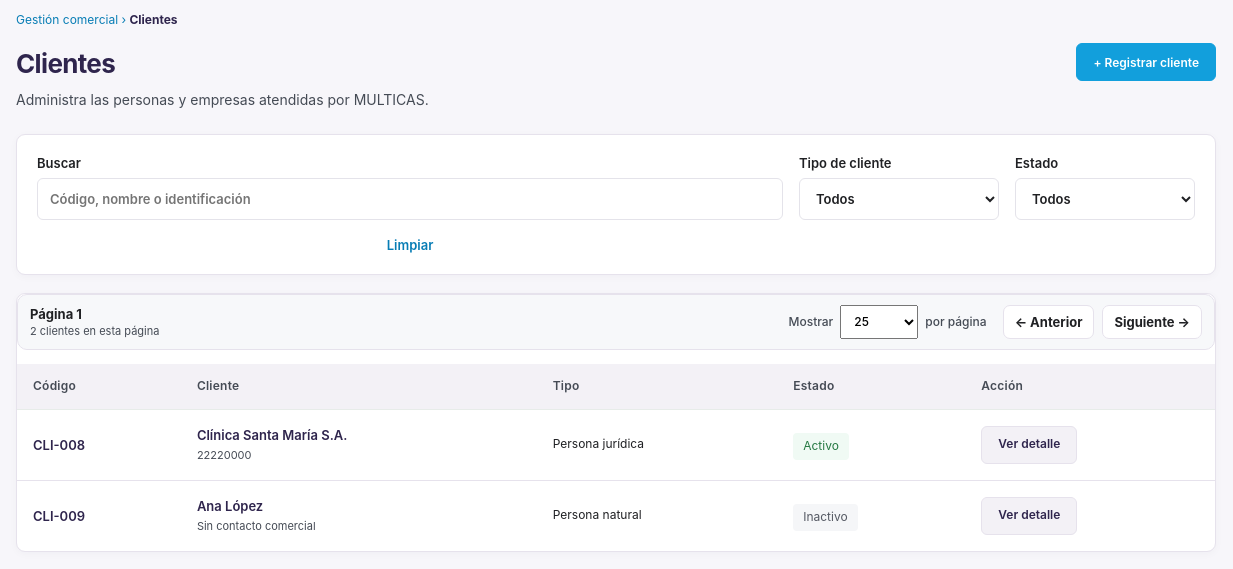
Test: Clientes y ubicaciones en TrackOn › filtra por nombre de cliente
This screenshot has width=1233, height=569.
Expected: the text "Ana López" is shown, [197, 498, 263, 514]
In the field named "Buscar cliente": (410, 199) [37, 178, 783, 220], type "Clínica"
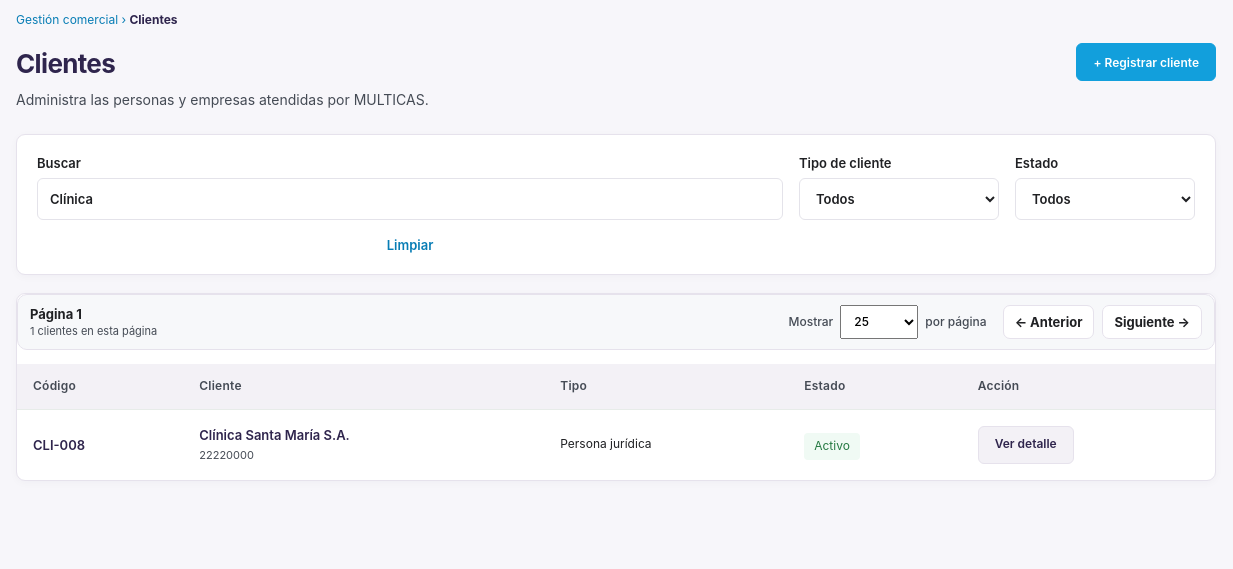
Expected: the text "Clínica Santa María S.A." is shown, [199, 427, 350, 443]
Expected: the text "Ana López" is gone
